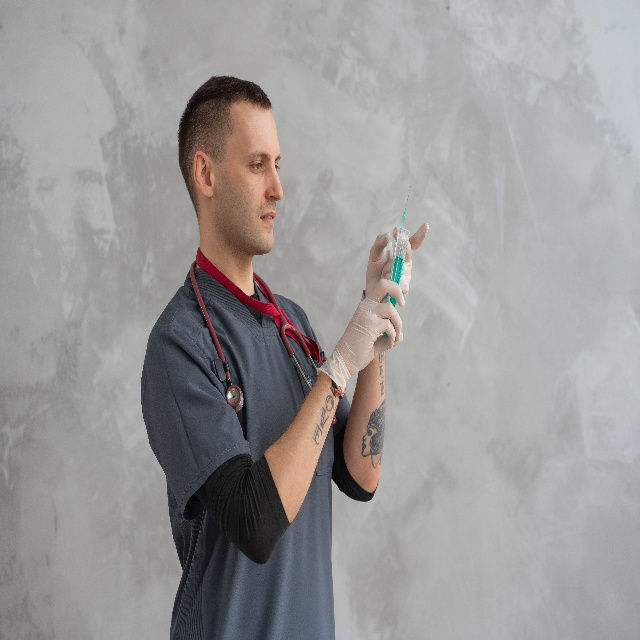Guantes: (317, 279, 405, 393), (364, 222, 429, 299)
Sin_guantes: (336, 278, 405, 376), (366, 223, 428, 295)
